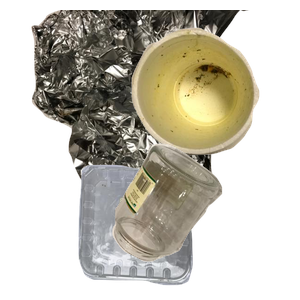glass: (110, 141, 300, 300)
metal: (29, 10, 269, 190)
plastic: (76, 162, 264, 300)
trash: (129, 25, 300, 173)
